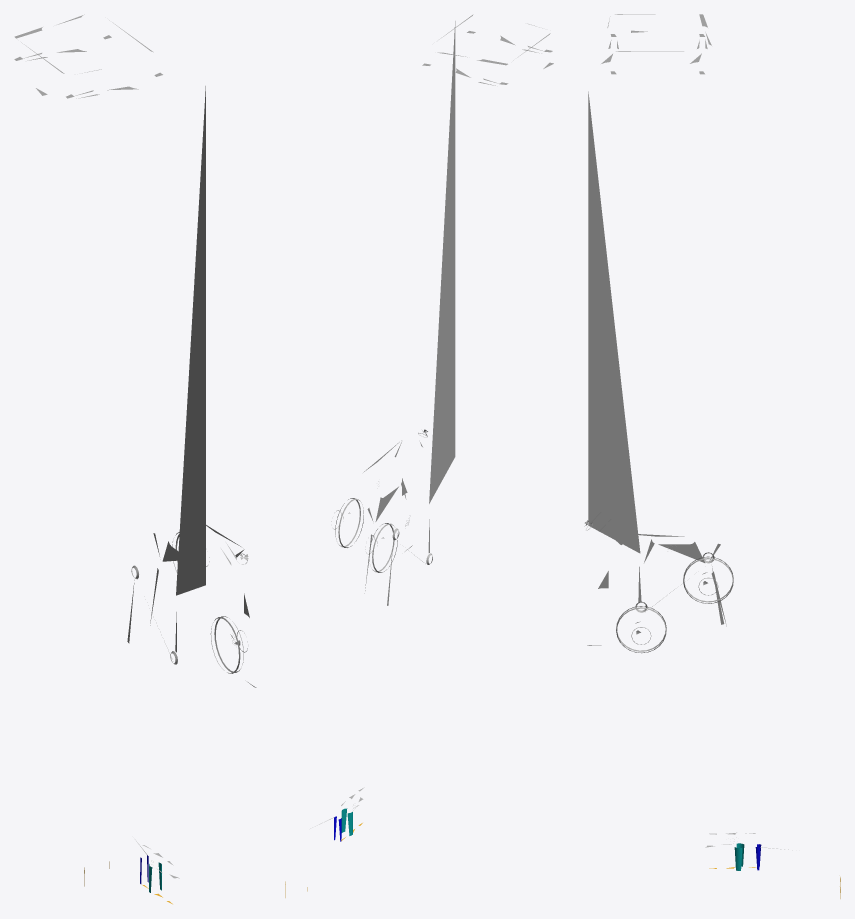
The picture shows the model from 3 angles, left to right: view 1: azimuth 30°, elevation 25°; view 2: azimuth 150°, elevation 25°; view 3: azimuth 270°, elevation 25°; orthographic projection. The views are drawn at different scales.
Visible parts, largest first — view 1: F19721000063102000131_001_zb_ub_auflage_31_fa; view 2: F19721000063102000131_001_zb_ub_auflage_31_fa; view 3: F19721000063102000131_001_zb_ub_auflage_31_fa.
Boxes of the visible parts, <box> form: F19721000063102000131_001_zb_ub_auflage_31_fa: <box>14,14,256,687</box>; F19721000063102000131_001_zb_ub_auflage_31_fa: <box>335,14,553,605</box>; F19721000063102000131_001_zb_ub_auflage_31_fa: <box>587,14,733,653</box>.
Size of the model in its own units: 163 by 203 by 712.
